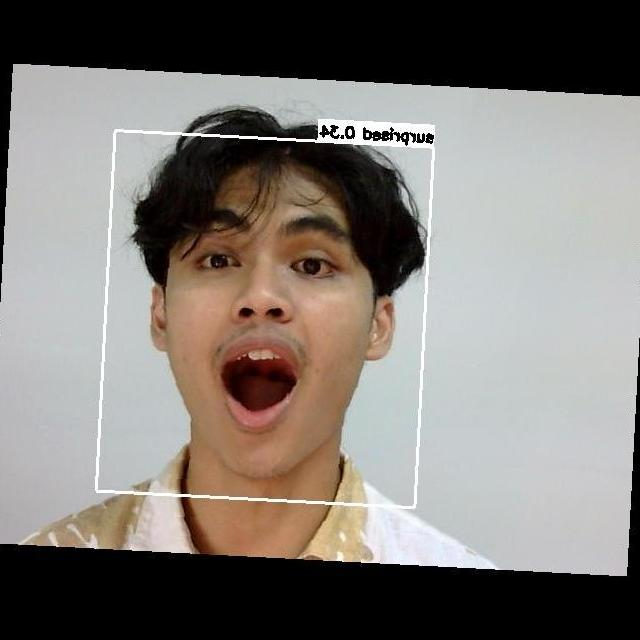Surprised: (159, 183, 389, 438)
